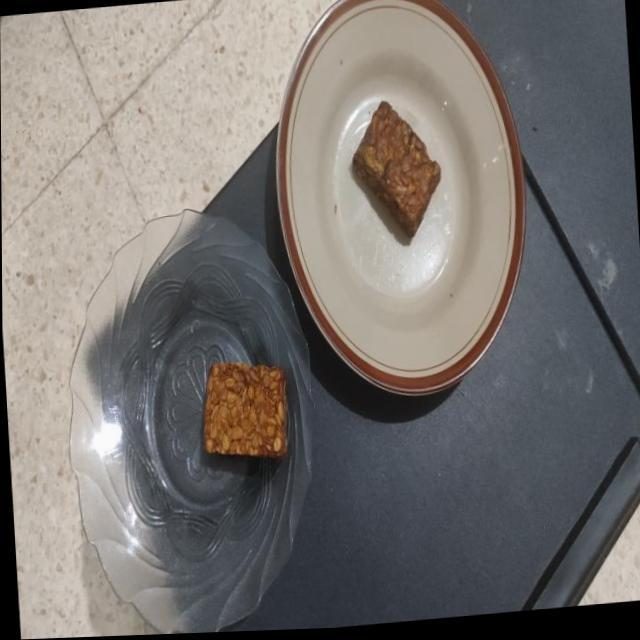tempe_goreng: (354, 102, 439, 236), (205, 362, 288, 458)
